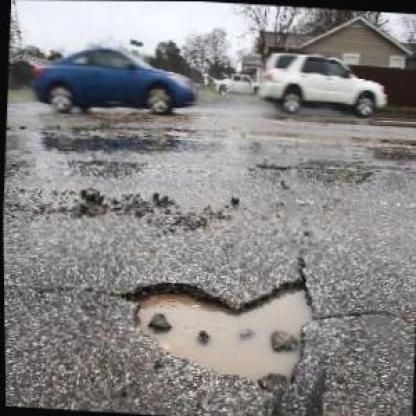pothole: (119, 266, 319, 388), (42, 126, 178, 158)
